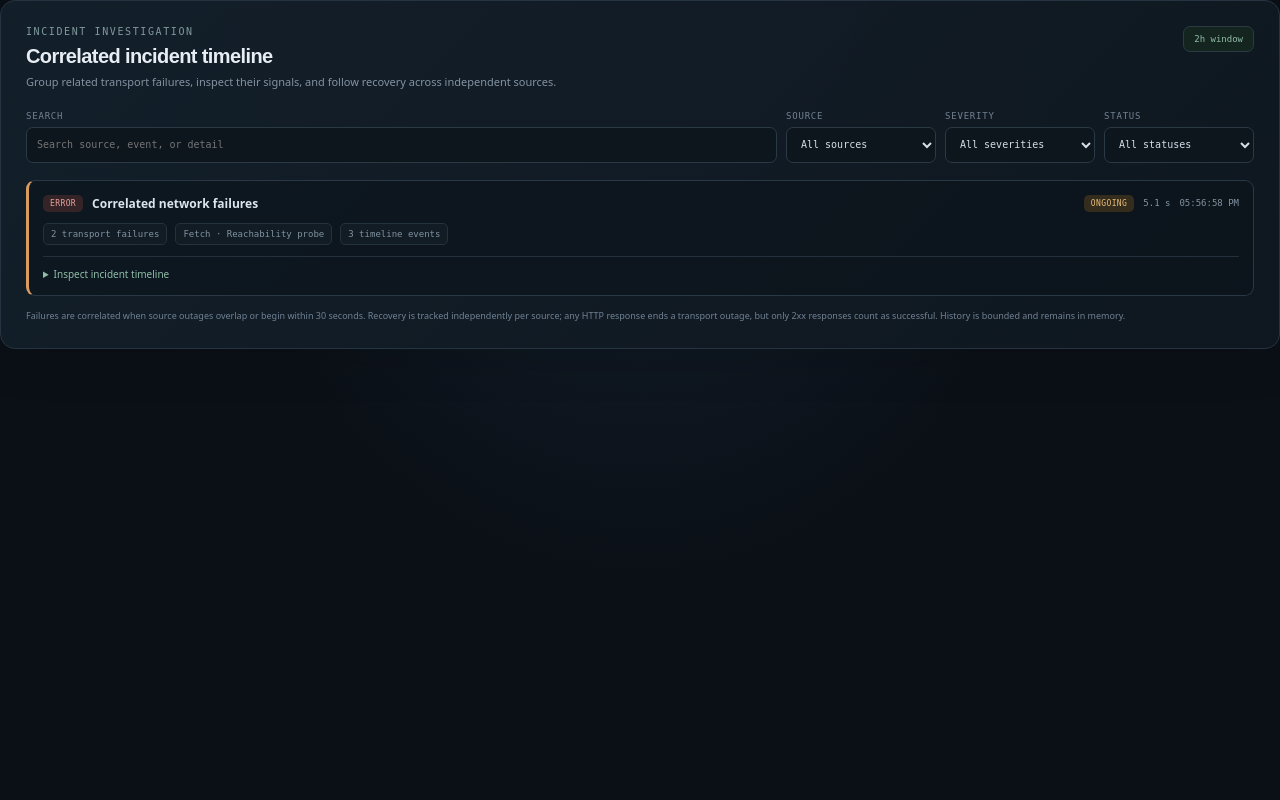
Scenario: IncidentTimeline › shows correlated incidents and their expandable event sequence
This screenshot has width=1280, height=800.
expect the text "Correlated network failures" is shown: met, box x1=92 y1=195 x2=258 y2=212
expect the text "Ongoing" is shown: met, box x1=1084 y1=195 x2=1134 y2=212
Click the heading "Inspect incident timeline": coordinates (111, 274) x1=54 y1=267 x2=169 y2=281
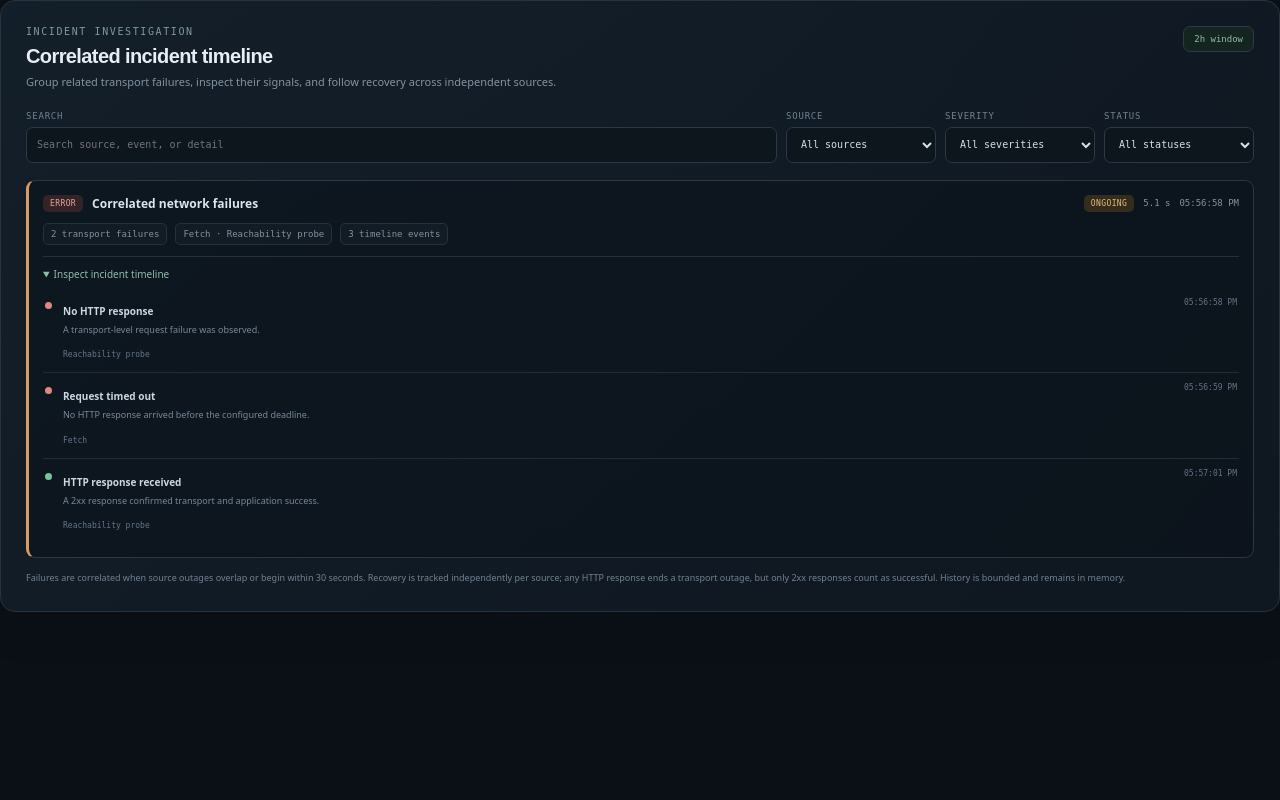
expect the text "No HTTP response" is shown: met, box x1=63 y1=304 x2=153 y2=318
expect the text "Request timed out" is shown: met, box x1=63 y1=389 x2=155 y2=403
